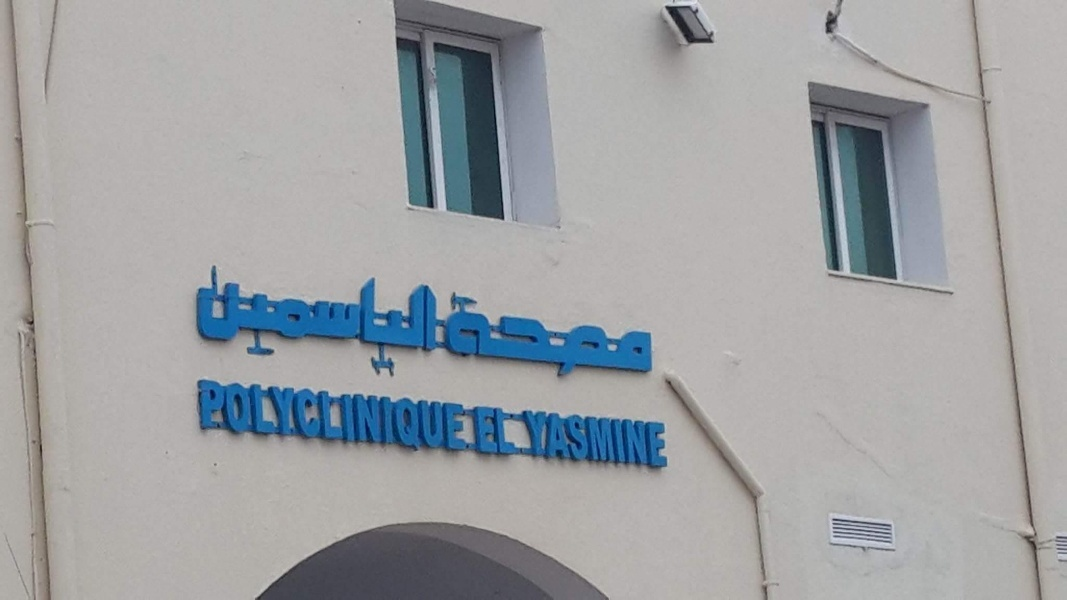text: (209, 262, 224, 374), (225, 262, 240, 374), (241, 262, 256, 374), (257, 262, 272, 374), (273, 262, 288, 374), (289, 262, 304, 374), (305, 262, 320, 374), (321, 262, 336, 374), (337, 262, 352, 374), (353, 262, 368, 374), (369, 262, 384, 374), (385, 262, 400, 374), (401, 262, 416, 374), (417, 262, 432, 374), (194, 262, 208, 374), (449, 293, 464, 387), (465, 293, 480, 387), (481, 293, 496, 387), (497, 293, 512, 387), (513, 293, 528, 387), (529, 293, 544, 387), (545, 293, 560, 387), (561, 293, 576, 387), (577, 293, 592, 387), (593, 293, 608, 387), (609, 293, 624, 387), (625, 293, 640, 387), (641, 293, 654, 387), (209, 379, 224, 457), (225, 379, 240, 457), (241, 379, 256, 457), (257, 379, 272, 457), (273, 379, 288, 457), (289, 379, 304, 457), (305, 379, 320, 457), (321, 379, 336, 457), (337, 379, 352, 457), (353, 379, 368, 457), (369, 379, 384, 457), (385, 379, 400, 457), (401, 379, 416, 457), (417, 379, 432, 457), (433, 379, 448, 457), (449, 379, 464, 457), (195, 379, 208, 457), (529, 408, 544, 469), (545, 408, 560, 469), (561, 408, 576, 469), (577, 408, 592, 469), (593, 408, 608, 469), (609, 408, 624, 469), (625, 408, 640, 469), (641, 408, 656, 469), (657, 408, 671, 469), (481, 406, 496, 457), (497, 406, 512, 457), (433, 262, 439, 374), (519, 408, 528, 469), (443, 293, 448, 387), (471, 406, 480, 457), (465, 379, 469, 457), (513, 406, 517, 457)
